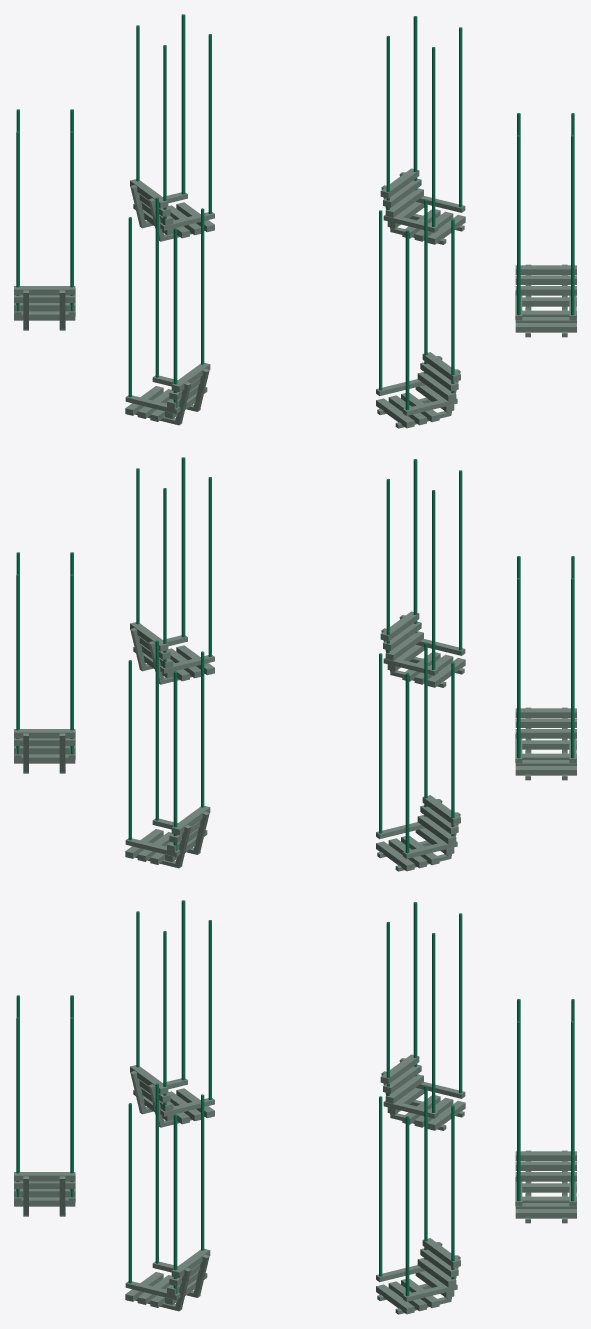
File: cadeiracarrosselvoador.obj
3 renders of one model, top to bottom at view 1: azimuth 30°, elevation 25°; view 2: azimuth 150°, elevation 25°; view 3: azimuth 270°, elevation 25°, orthographic.
Visible parts, largest first — view 1: cadeiracarrosselvoador:group cadeiracarrosselvoador:pasted__pCyl, cadeiracarrosselvoador4:group cadeiracarrosselvoador4:pasted__pC, cadeiracarrosselvoador1:group cadeiracarrosselvoador1:pasted__pC, cadeiracarrosselvoador5:group cadeiracarrosselvoador5:pasted__pC, cadeiracarrosselvoador3:group cadeiracarrosselvoador3:pasted__pC, cadeiracarrosselvoador2:group cadeiracarrosselvoador2:pasted__pC; view 2: cadeiracarrosselvoador2:group cadeiracarrosselvoador2:pasted__pC, cadeiracarrosselvoador:group cadeiracarrosselvoador:pasted__pCyl, cadeiracarrosselvoador5:group cadeiracarrosselvoador5:pasted__pC, cadeiracarrosselvoador3:group cadeiracarrosselvoador3:pasted__pC, cadeiracarrosselvoador1:group cadeiracarrosselvoador1:pasted__pC, cadeiracarrosselvoador4:group cadeiracarrosselvoador4:pasted__pC; view 3: cadeiracarrosselvoador4:group cadeiracarrosselvoador4:pasted__pC, cadeiracarrosselvoador2:group cadeiracarrosselvoador2:pasted__pC, cadeiracarrosselvoador3:group cadeiracarrosselvoador3:pasted__pC, cadeiracarrosselvoador1:group cadeiracarrosselvoador1:pasted__pC, cadeiracarrosselvoador5:group cadeiracarrosselvoador5:pasted__pC, cadeiracarrosselvoador:group cadeiracarrosselvoador:pasted__pCyl.
Boxes of the visible parts, box(x1,y1,x2,y2) form: cadeiracarrosselvoador:group cadeiracarrosselvoador:pasted__pCyl: box(376, 199, 460, 428); cadeiracarrosselvoador4:group cadeiracarrosselvoador4:pasted__pC: box(380, 16, 465, 244); cadeiracarrosselvoador1:group cadeiracarrosselvoador1:pasted__pC: box(125, 197, 210, 425); cadeiracarrosselvoador5:group cadeiracarrosselvoador5:pasted__pC: box(130, 14, 214, 241); cadeiracarrosselvoador3:group cadeiracarrosselvoador3:pasted__pC: box(515, 113, 576, 337); cadeiracarrosselvoador2:group cadeiracarrosselvoador2:pasted__pC: box(14, 109, 75, 330); cadeiracarrosselvoador2:group cadeiracarrosselvoador2:pasted__pC: box(376, 642, 460, 871); cadeiracarrosselvoador:group cadeiracarrosselvoador:pasted__pCyl: box(380, 459, 465, 687); cadeiracarrosselvoador5:group cadeiracarrosselvoador5:pasted__pC: box(125, 640, 210, 868); cadeiracarrosselvoador3:group cadeiracarrosselvoador3:pasted__pC: box(130, 457, 214, 684); cadeiracarrosselvoador1:group cadeiracarrosselvoador1:pasted__pC: box(515, 556, 576, 780); cadeiracarrosselvoador4:group cadeiracarrosselvoador4:pasted__pC: box(14, 552, 75, 773); cadeiracarrosselvoador4:group cadeiracarrosselvoador4:pasted__pC: box(376, 1085, 460, 1314); cadeiracarrosselvoador2:group cadeiracarrosselvoador2:pasted__pC: box(380, 902, 465, 1130); cadeiracarrosselvoador3:group cadeiracarrosselvoador3:pasted__pC: box(125, 1083, 210, 1311); cadeiracarrosselvoador1:group cadeiracarrosselvoador1:pasted__pC: box(130, 900, 214, 1127); cadeiracarrosselvoador5:group cadeiracarrosselvoador5:pasted__pC: box(515, 999, 576, 1223); cadeiracarrosselvoador:group cadeiracarrosselvoador:pasted__pCyl: box(14, 995, 75, 1216).
Bounding box in the file's own units: 1.95 × 0.8166 × 2.1.
6 materials, 6 textured.
